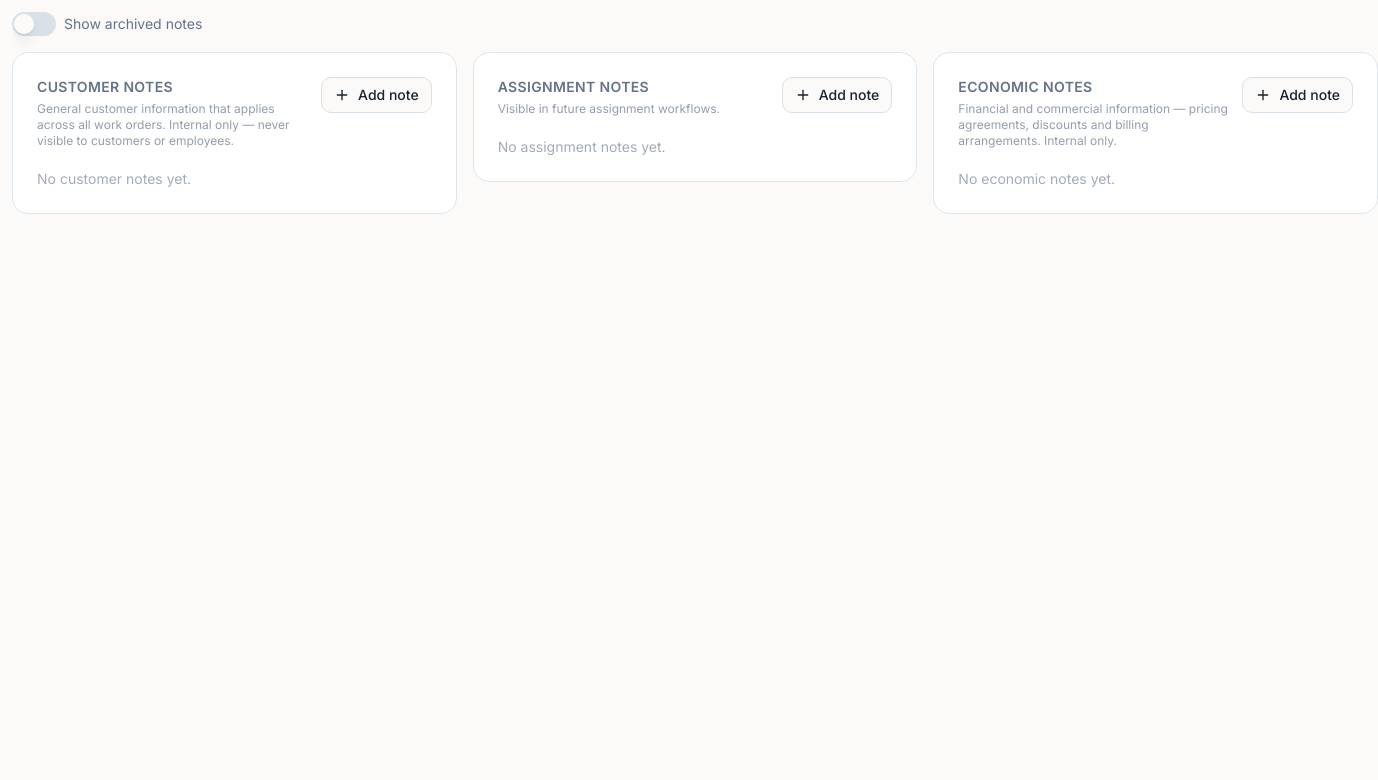
Scenario: CORE-WRITES-CUSTOMERS-A1.4.1 Customer Card notes › keeps the note composer open and shows an inline error when Supabase save fails
Click the 1st button "Add note": [376, 95] box [321,77,432,113]
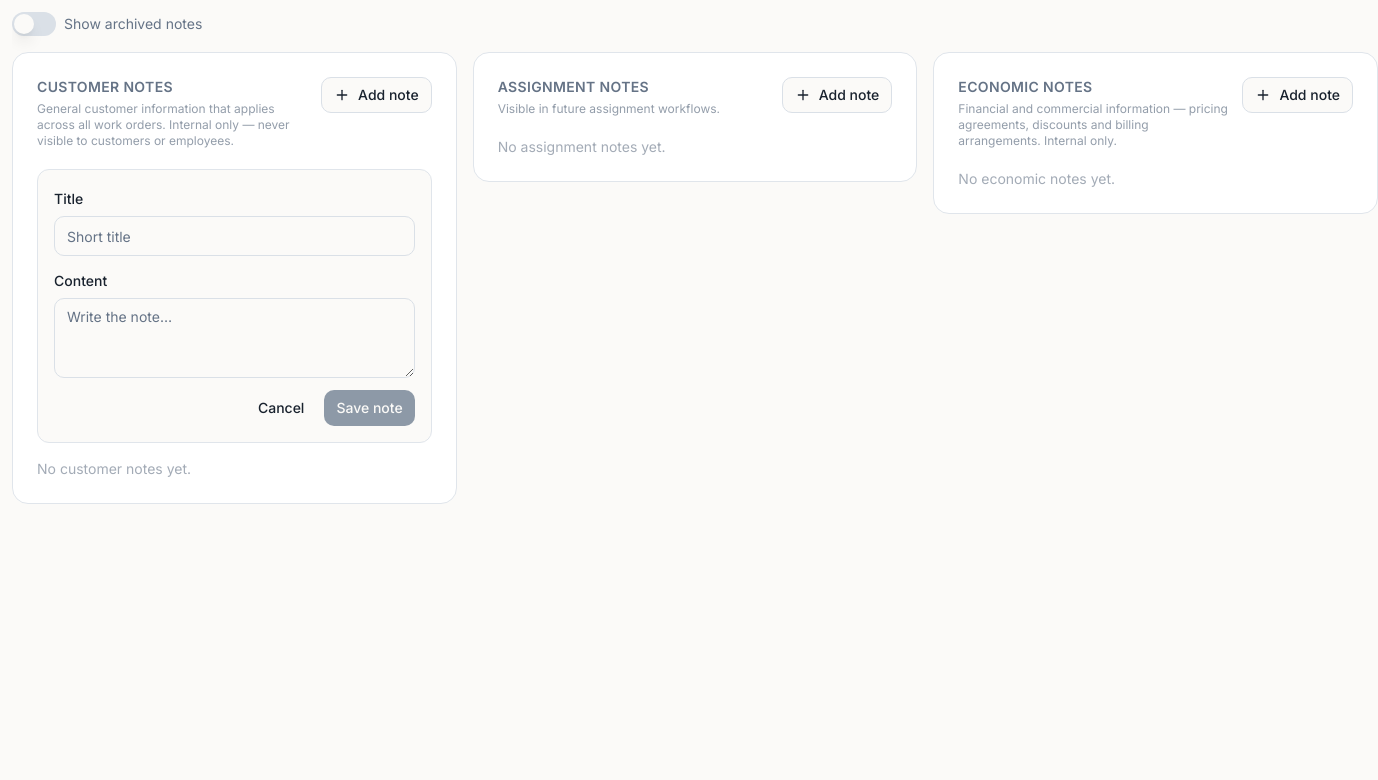
In the field with placeholder "Short title": [234, 236] box [54,216,415,256], type "Retry title"
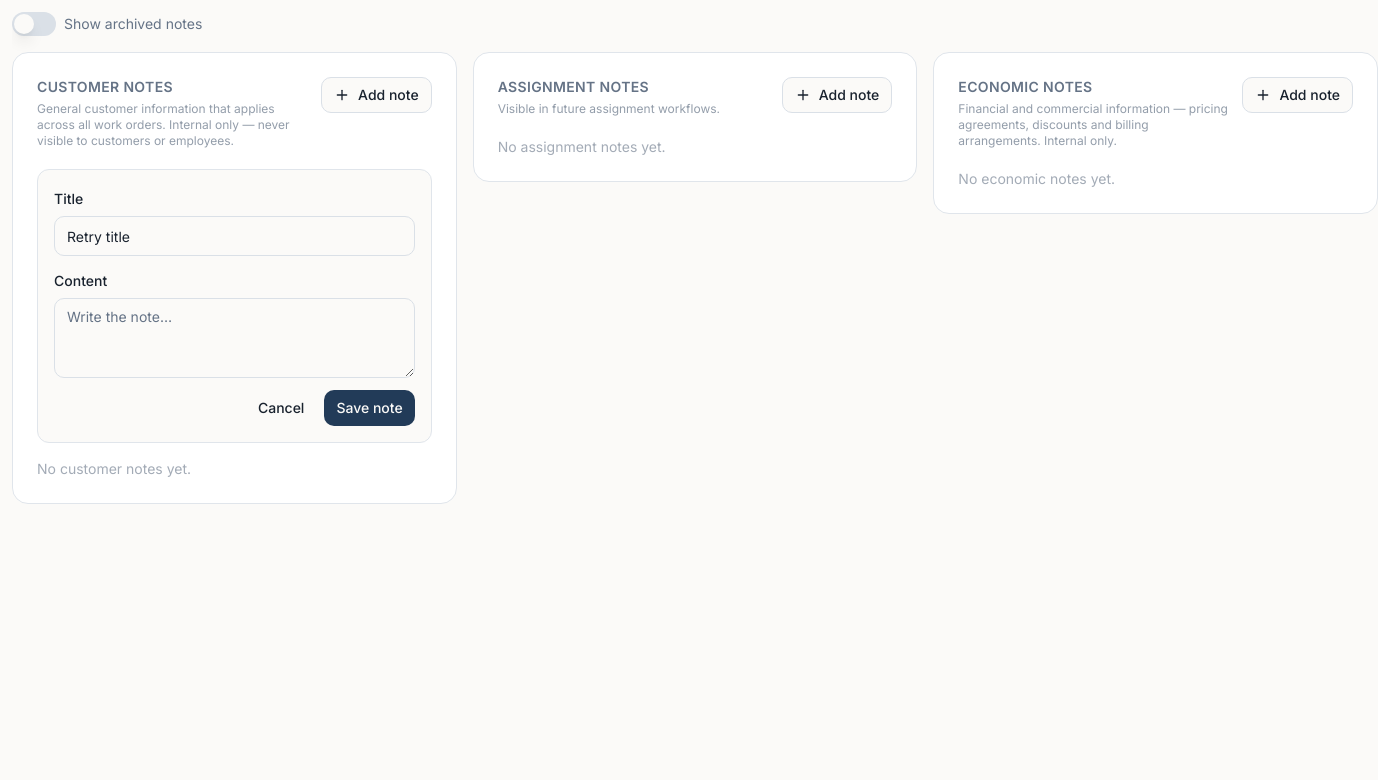
Click the button "Save note": [370, 408] box [324,390,415,426]
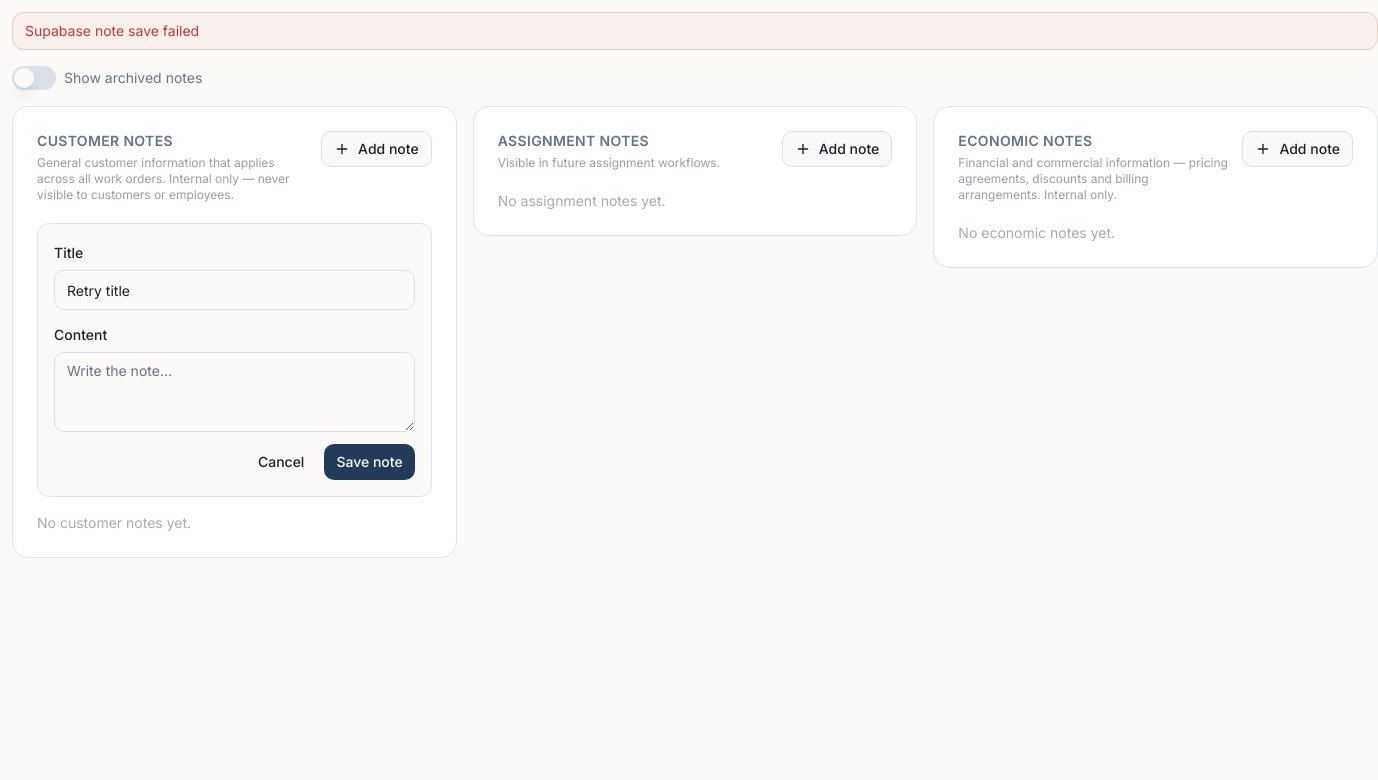
Expected: the text "Supabase note save failed" is shown, [12,12,1377,50]
